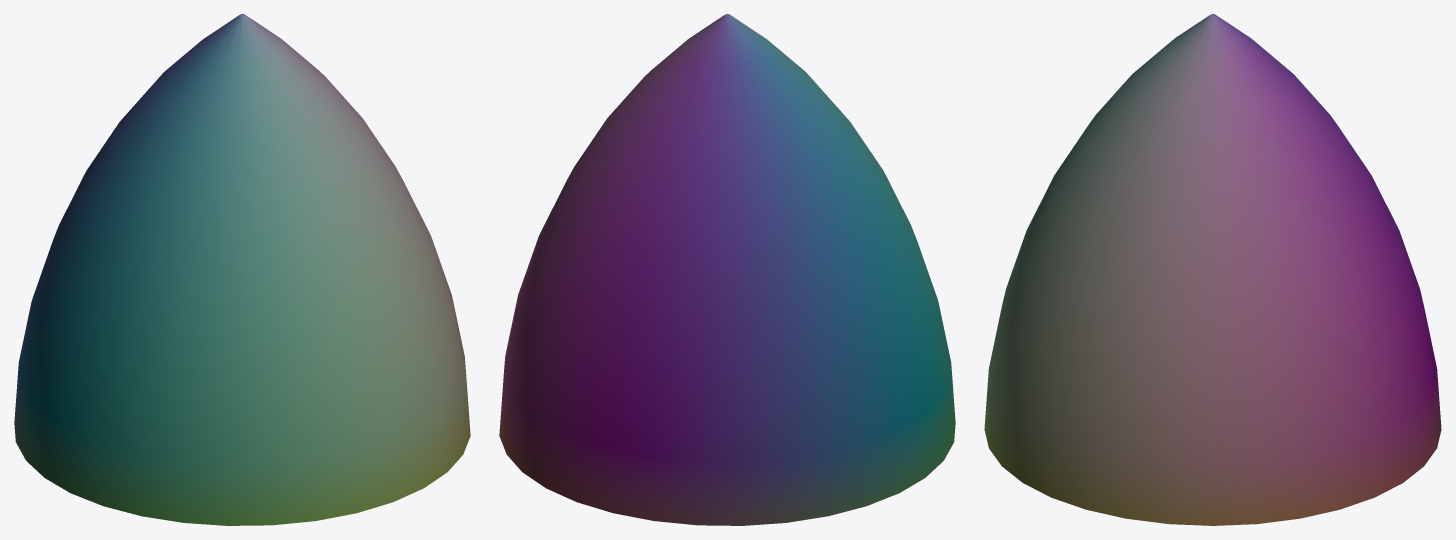
Rendered from SM_ScalableConeRounded.gltf.
3 views of the same model, side by side, from view 1: azimuth 30°, elevation 25°; view 2: azimuth 150°, elevation 25°; view 3: azimuth 270°, elevation 25° (orthographic).
Parts seen in each view (by area): view 1: SM_ScalableConeRounded; view 2: SM_ScalableConeRounded; view 3: SM_ScalableConeRounded.
Part boxes in pixels (left/top/right/bottom): SM_ScalableConeRounded: left=14, top=14, right=470, bottom=525; SM_ScalableConeRounded: left=499, top=14, right=955, bottom=525; SM_ScalableConeRounded: left=984, top=14, right=1441, bottom=525.
Bounding box in the file's own units: 0.3 × 0.3 × 0.3.
